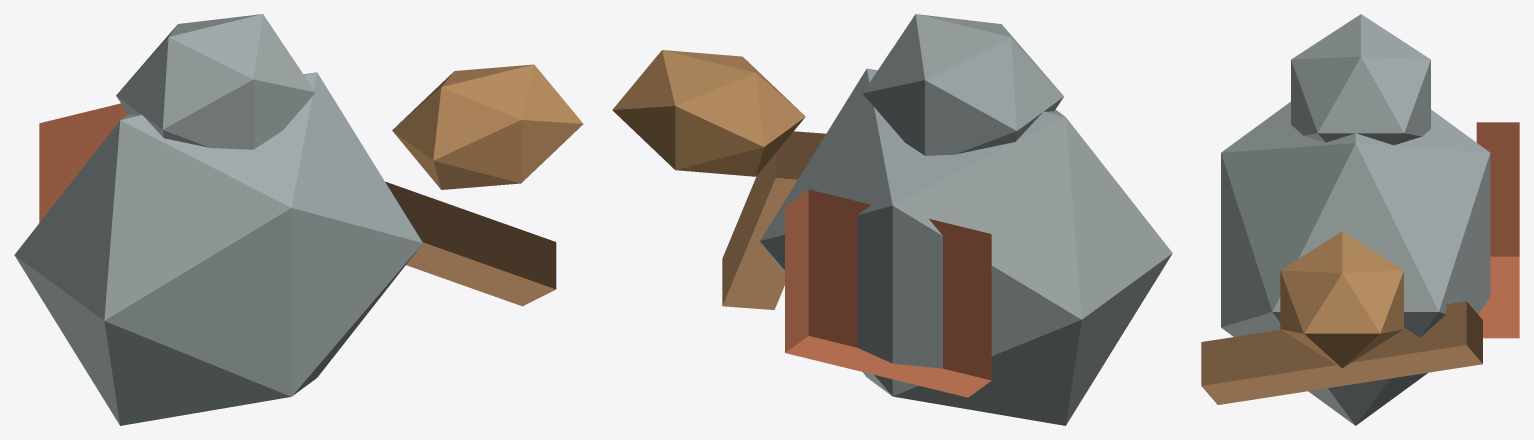
Rendered from enemy_brute.glb.
The picture shows the model from 3 angles, left to right: view 1: azimuth 30°, elevation 25°; view 2: azimuth 150°, elevation 25°; view 3: azimuth 270°, elevation 25°; orthographic projection. The views are drawn at different scales.
Visible parts, largest first — view 1: body, head, club_head, club, chest_plate; view 2: body, chest_plate, head, club_head, club; view 3: body, head, club, club_head, chest_plate.
Boxes of the visible parts, x1,y1,x2,y2 form: body: (14,72,422,425); head: (116,14,315,149); club_head: (392,64,583,189); club: (385,181,556,306); chest_plate: (39,103,127,222); body: (760,68,1172,425); chest_plate: (785,189,991,397); head: (862,14,1063,155); club_head: (612,50,805,176); club: (722,131,825,309); body: (1221,102,1490,425); head: (1291,14,1430,145); club: (1201,301,1482,404); club_head: (1280,231,1403,368); chest_plate: (1476,122,1519,338).
Bounding box in the file's own units: 1.97 × 1.42 × 1.18.
